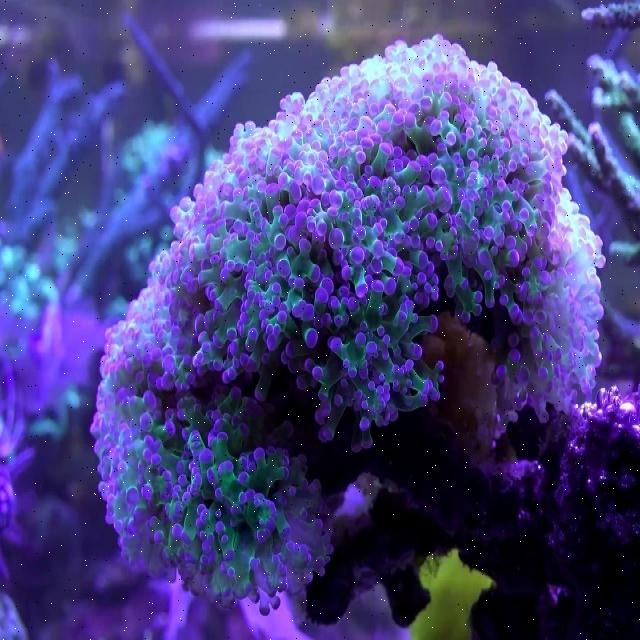reefs: (89, 34, 607, 616)
